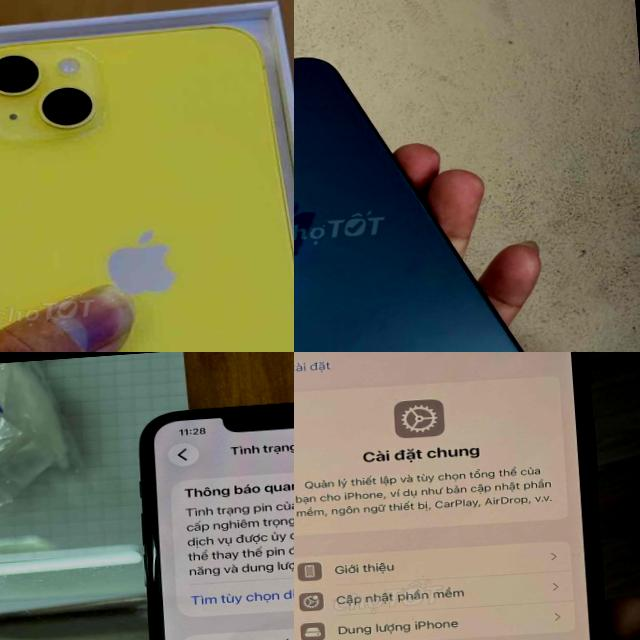gen_11: (121, 384, 294, 640)
gen_12_13: (294, 58, 522, 352)
gen_14: (0, 9, 294, 352)
gen_x_xs: (294, 352, 630, 640)
scratch: (294, 177, 349, 279)
